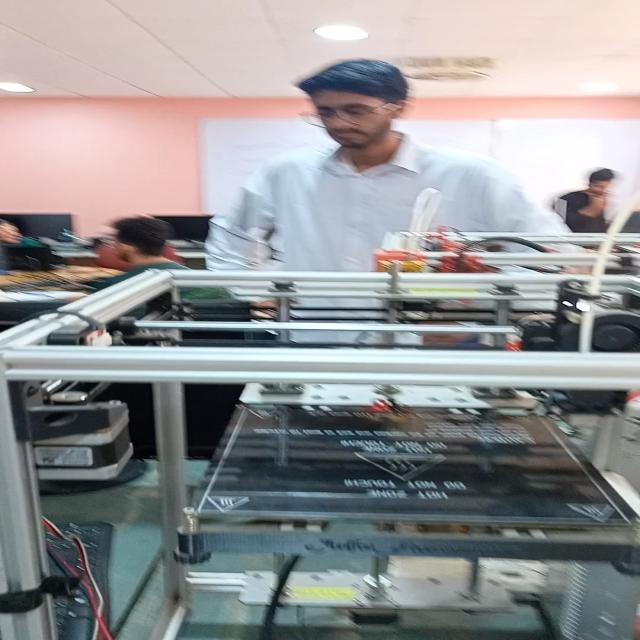dress: (213, 137, 582, 281)
